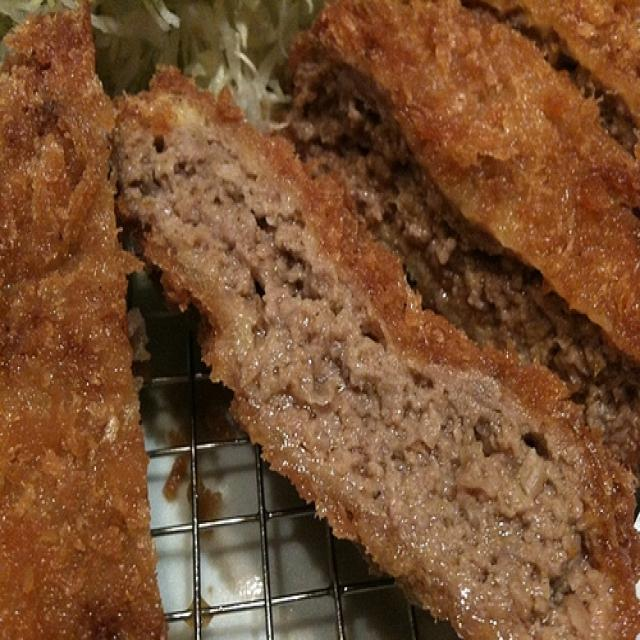炸货点心: (4, 10, 630, 628)
